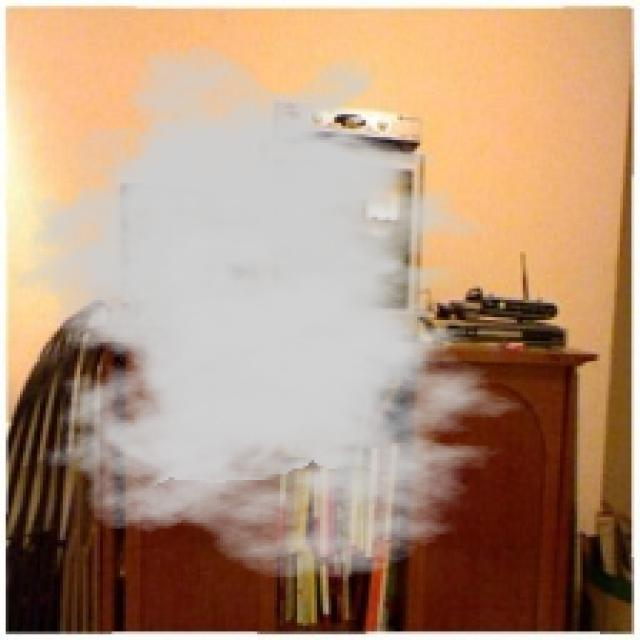Smoke: (3, 43, 546, 580)
